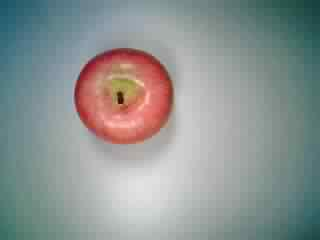apple: (73, 48, 177, 149)
